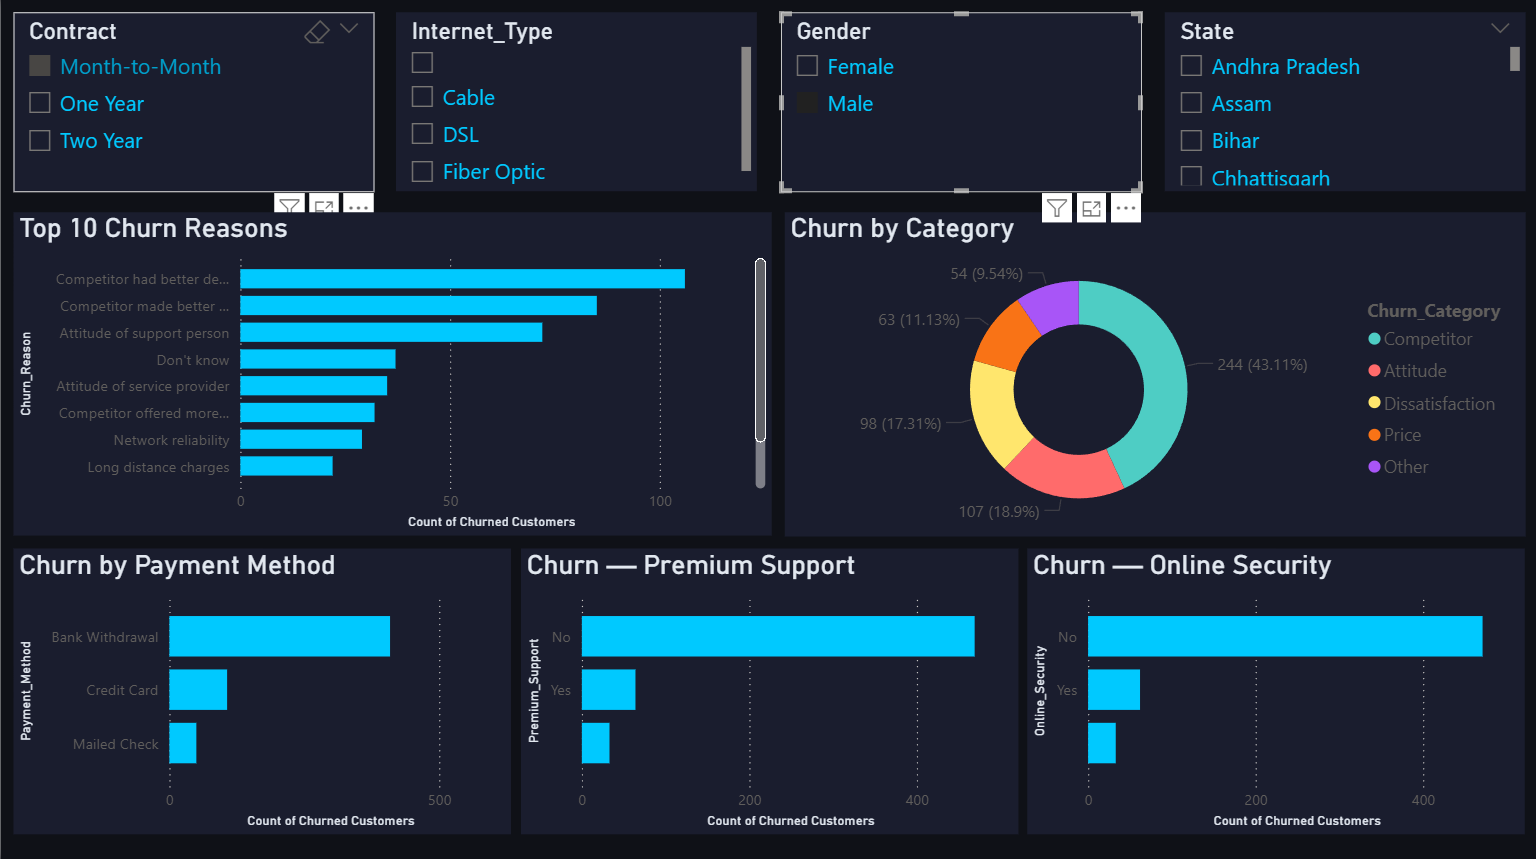

What the dashboard file says about the page in this screenshot:
{"tool":"powerbi","page":{"name":"Churn Analysis","canvas":[1280,720],"ordinal":1},"visuals":[{"type":"slicer","fields":{"Values":["churn_db cleaned_churn.Contract"]},"box":[10.5,14,300,148.8],"z":0},{"type":"slicer","fields":{"Values":["churn_db cleaned_churn.Internet_Type"]},"box":[327.9,14,300,148.8],"z":1000},{"type":"slicer","fields":{"Values":["churn_db cleaned_churn.Gender"]},"box":[648.8,14,300,148.8],"z":2000},{"type":"slicer","fields":{"Values":["churn_db cleaned_churn.State"]},"box":[967.4,14,300,148.8],"z":3000},{"type":"clusteredBarChart","title":"Top 10 Churn Reasons","fields":{"Category":["churn_db cleaned_churn.Churn_Reason"],"Y":["CountNonNull(churn_db cleaned_churn.Churned Customers)"]},"box":[10.5,180.2,630.2,268.6],"z":4000},{"type":"donutChart","title":"Churn by Category","fields":{"Category":["churn_db cleaned_churn.Churn_Category"],"Y":["CountNonNull(churn_db cleaned_churn.Churned Customers)"]},"box":[651.2,180.2,616.3,269.8],"z":5000},{"type":"clusteredBarChart","title":"Churn by Payment Method","fields":{"Category":["churn_db cleaned_churn.Payment_Method"],"Y":["CountNonNull(churn_db cleaned_churn.Churned Customers)"]},"box":[10.5,459.3,414,237.2],"z":6000},{"type":"clusteredBarChart","title":"Churn — Online Security","fields":{"Y":["CountNonNull(churn_db cleaned_churn.Churned Customers)"],"Category":["churn_db cleaned_churn.Online_Security"]},"box":[853.5,459.3,414,237.2],"z":7000},{"type":"clusteredBarChart","title":"Churn — Premium Support","fields":{"Category":["churn_db cleaned_churn.Premium_Support"],"Y":["CountNonNull(churn_db cleaned_churn.Churned Customers)"]},"box":[432.6,459.3,414,237.2],"z":8000}]}

Visuals, with their boxes in screenshot pixels (x1, y1, x2, y2), scaled from the page's 1280x720 canvas onto the 1536x859 screenshot:
slicer - churn_db cleaned_churn.Contract: region(13, 17, 373, 194)
slicer - churn_db cleaned_churn.Internet_Type: region(393, 17, 753, 194)
slicer - churn_db cleaned_churn.Gender: region(779, 17, 1139, 194)
slicer - churn_db cleaned_churn.State: region(1161, 17, 1521, 194)
"Top 10 Churn Reasons" clusteredBarChart: region(13, 215, 769, 535)
"Churn by Category" donutChart: region(781, 215, 1521, 537)
"Churn by Payment Method" clusteredBarChart: region(13, 548, 509, 831)
"Churn — Online Security" clusteredBarChart: region(1024, 548, 1521, 831)
"Churn — Premium Support" clusteredBarChart: region(519, 548, 1016, 831)
